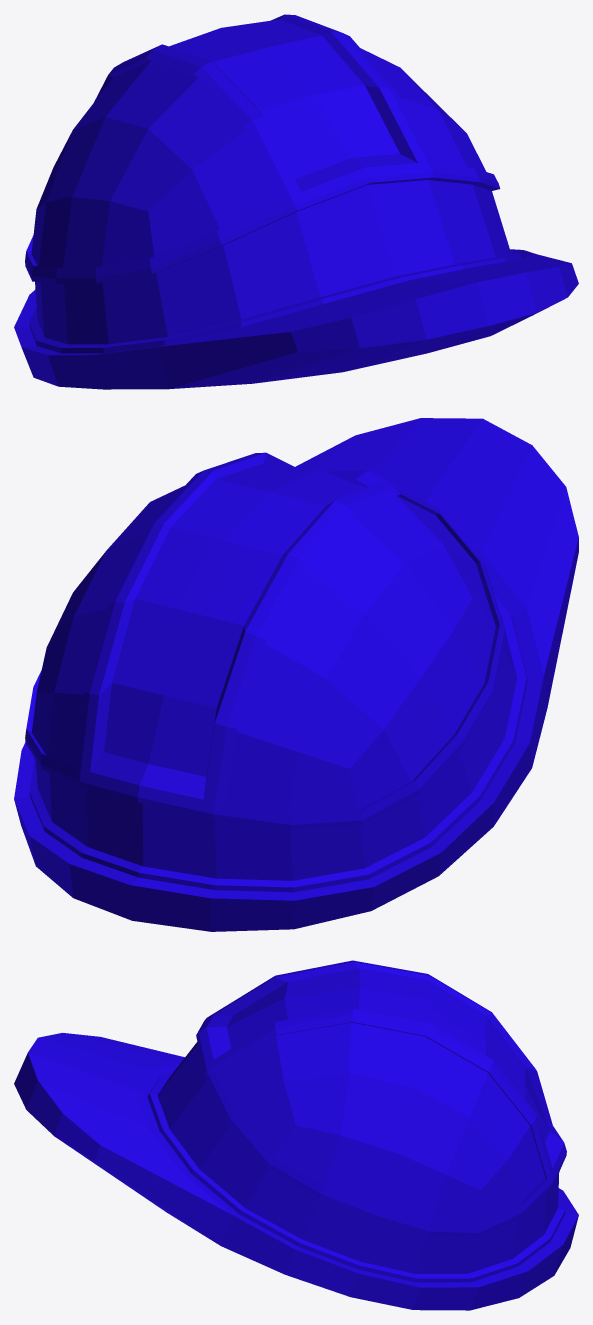
The model's file is Constructor.fbx.
3 renders of one model, top to bottom at view 1: azimuth 30°, elevation 25°; view 2: azimuth 150°, elevation 25°; view 3: azimuth 270°, elevation 25°, orthographic. The views are drawn at different scales.
Visible parts, largest first — view 1: Contructor; view 2: Contructor; view 3: Contructor.
Part boxes in pixels (bbox=[...]): Contructor: bbox=[14, 14, 578, 389]; Contructor: bbox=[14, 418, 578, 931]; Contructor: bbox=[14, 960, 578, 1310].
Bounding box in the file's own units: 64.57 × 46.44 × 90.49.
